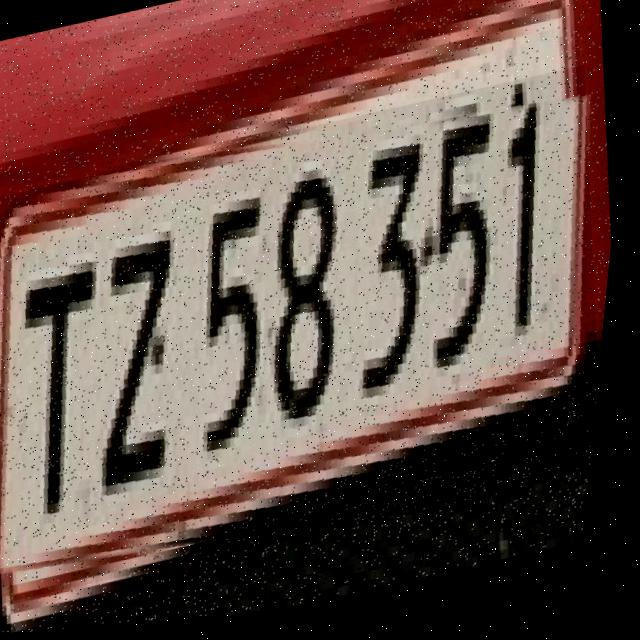LicensePlate: (0, 73, 631, 611)
